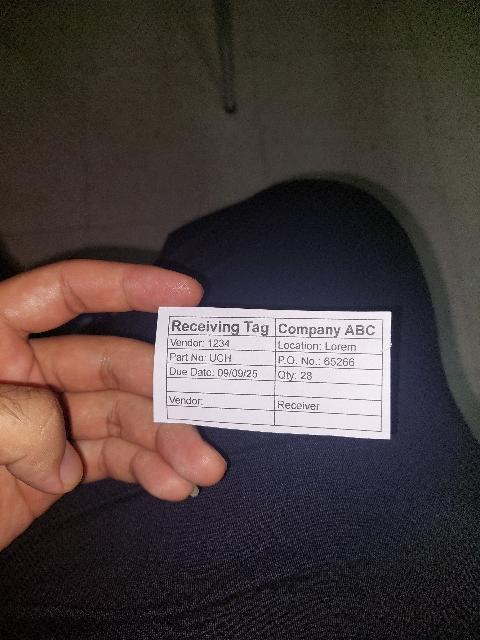PO no: (275, 351, 382, 369)
part no: (167, 349, 275, 366)
qty: (275, 366, 382, 385)
tags: (154, 308, 392, 439)
